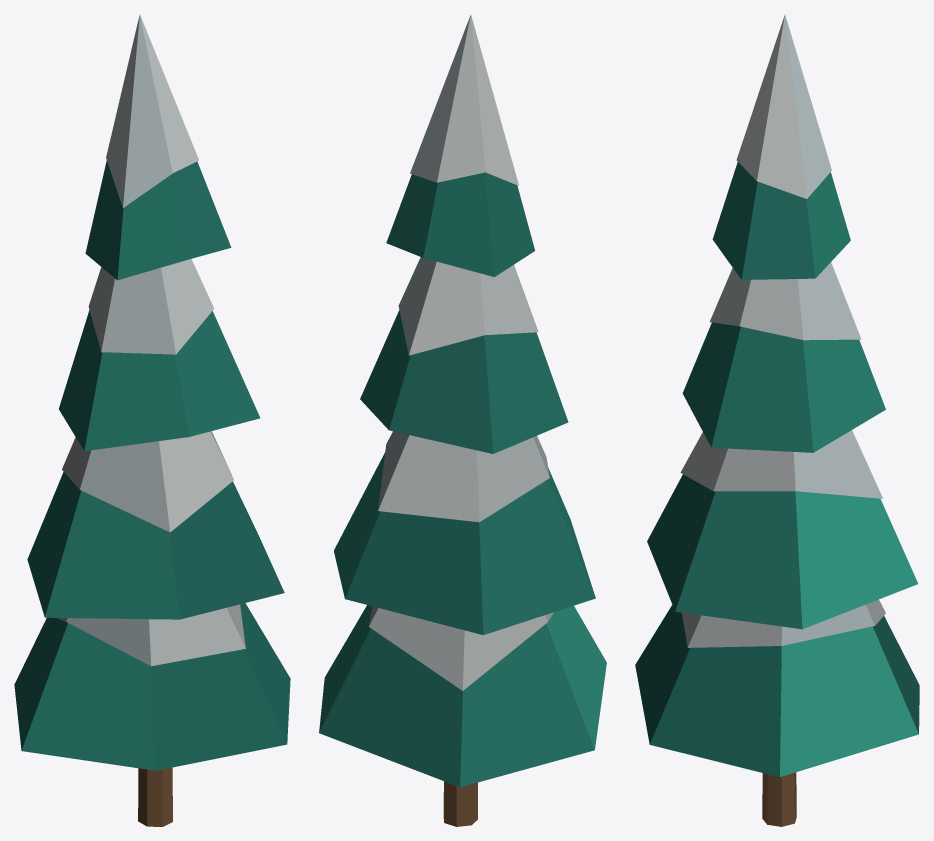
File: fir-b.glb
3 renders of one model, left to right at view 1: azimuth 30°, elevation 25°; view 2: azimuth 150°, elevation 25°; view 3: azimuth 270°, elevation 25°, orthographic.
Parts seen in each view (by area): view 1: foliage, trunk; view 2: foliage, trunk; view 3: foliage, trunk.
Part boxes in pixels (x1,y1,x2,y2): foliage: (14,14,290,770); trunk: (138,767,172,826); foliage: (319,14,606,787); trunk: (443,781,477,826); foliage: (635,14,919,776); trunk: (762,772,796,826).
Size of the model in its own units: 1.82 by 5.21 by 1.68.
